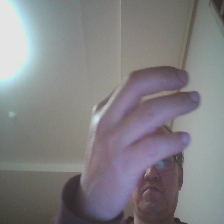hand: (84, 66, 197, 220)
